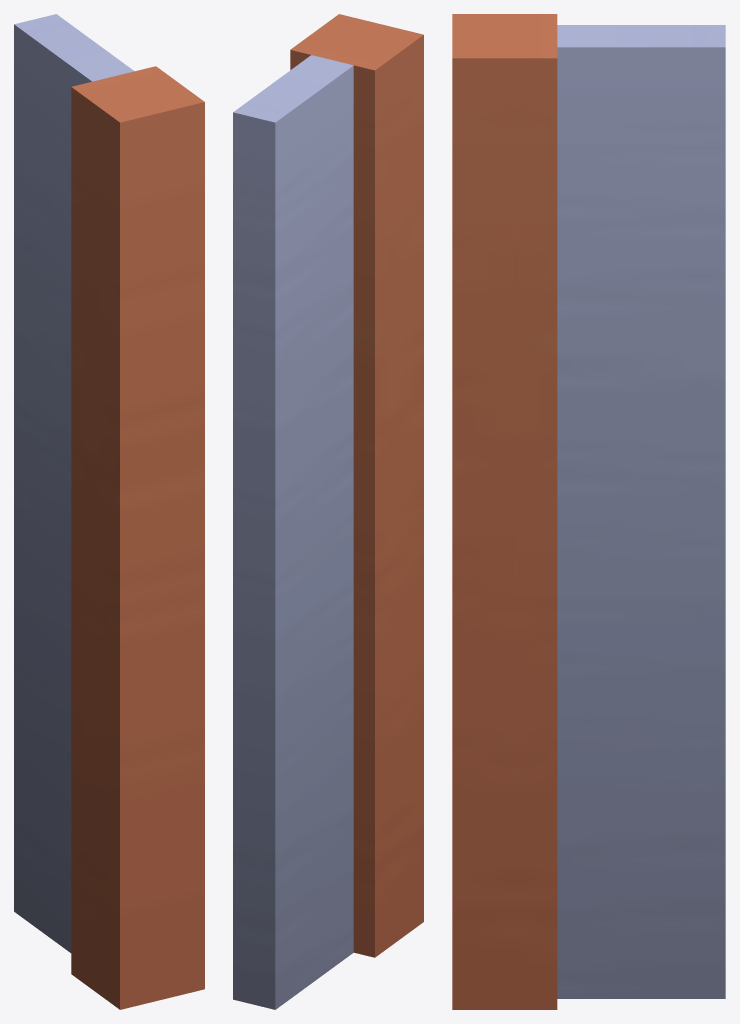
File: wallSide.fbx
3 views of the same model, side by side, from view 1: azimuth 30°, elevation 25°; view 2: azimuth 150°, elevation 25°; view 3: azimuth 270°, elevation 25° (orthographic). The views are drawn at different scales.
Visible parts, largest first — view 1: wallSide; view 2: wallSide; view 3: wallSide.
Part boxes in pixels (x1,y1,x2,y2): wallSide: (14, 14, 204, 1009); wallSide: (233, 14, 423, 1009); wallSide: (452, 14, 725, 1009).
Bounding box in the file's own units: 0.1 × 0.26 × 1.
